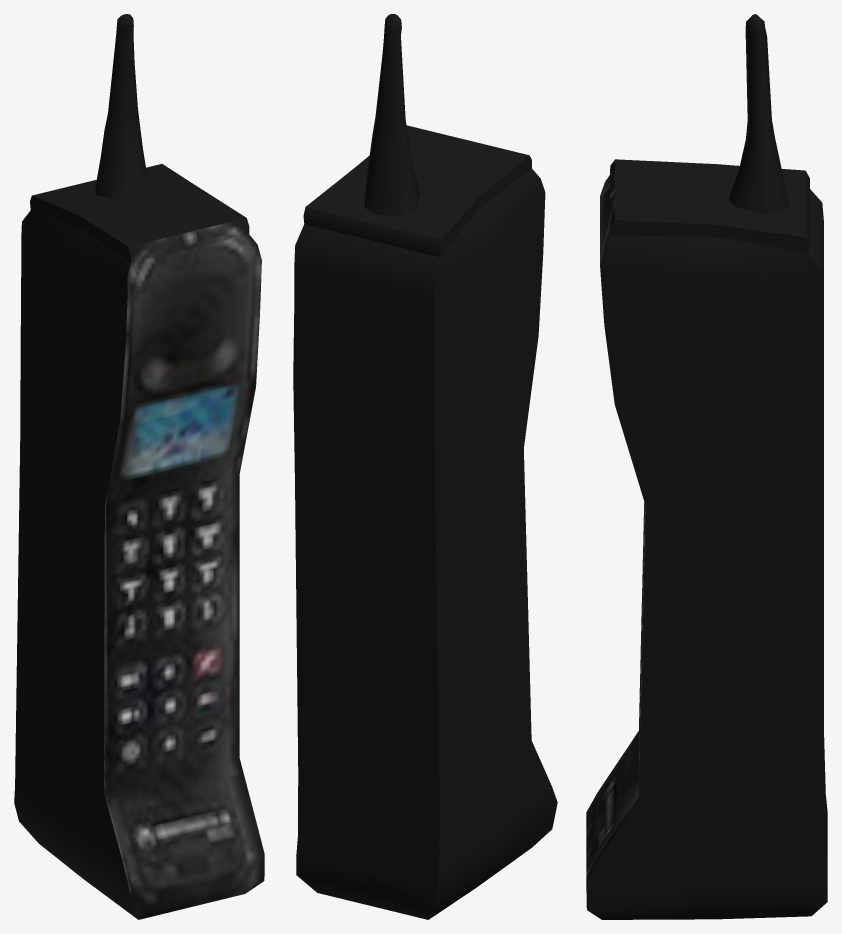
Rendered from Motorola.fbx.
The picture shows the model from 3 angles, left to right: view 1: azimuth 30°, elevation 25°; view 2: azimuth 150°, elevation 25°; view 3: azimuth 270°, elevation 25°; orthographic projection. The views are drawn at different scales.
Parts seen in each view (by area): view 1: pCube1; view 2: pCube1; view 3: pCube1.
Boxes of the visible parts, bbox=[...] form: pCube1: bbox=[14, 14, 264, 919]; pCube1: bbox=[293, 14, 557, 919]; pCube1: bbox=[586, 14, 827, 919].
Bounding box in the file's own units: 0.3876 × 2.2 × 0.548.
1 material, 1 textured.
